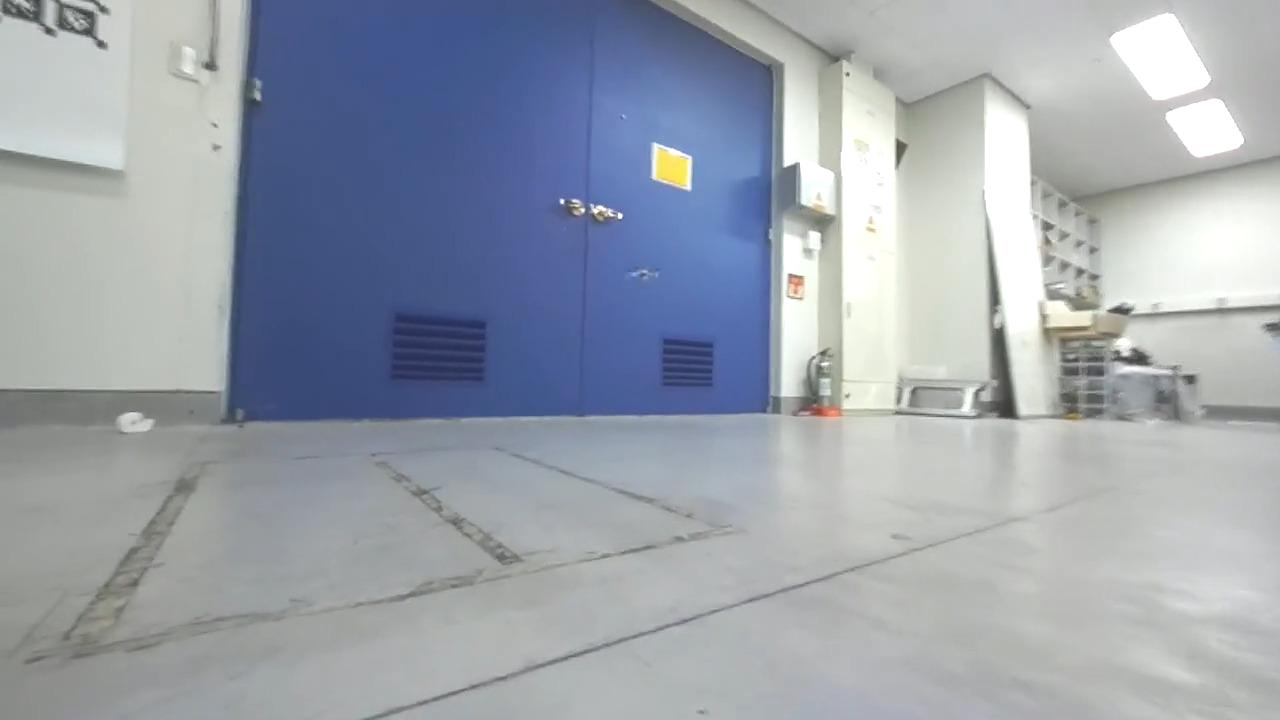crazyflie: (623, 263, 664, 286)
